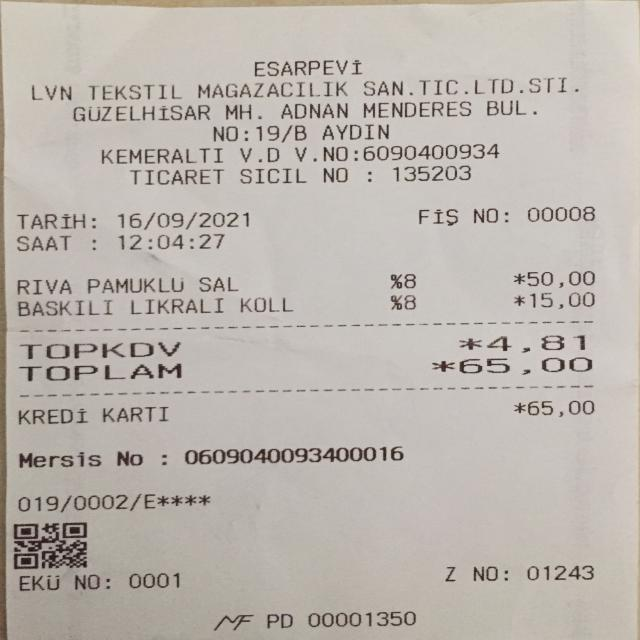text: (183, 445, 403, 463), (294, 143, 500, 160), (362, 78, 566, 94), (196, 80, 348, 98), (17, 363, 181, 379), (459, 356, 592, 375), (19, 342, 179, 357), (118, 210, 249, 228), (100, 145, 222, 164), (71, 103, 210, 119), (362, 98, 470, 115), (18, 447, 101, 469), (484, 334, 585, 352), (254, 58, 362, 74), (118, 232, 224, 248), (87, 82, 181, 100), (307, 611, 416, 626), (130, 167, 224, 184), (87, 276, 182, 292), (130, 297, 222, 313), (16, 300, 111, 315), (394, 164, 471, 182), (526, 203, 596, 222), (239, 165, 306, 184), (527, 269, 594, 288), (17, 210, 82, 229), (321, 122, 389, 140), (527, 399, 593, 417), (280, 100, 348, 117), (15, 408, 87, 423), (101, 406, 167, 422), (528, 564, 594, 580), (534, 290, 596, 307), (16, 233, 72, 251), (73, 493, 128, 510), (16, 277, 70, 294), (156, 491, 210, 508), (239, 296, 292, 313), (412, 207, 458, 226), (129, 571, 178, 587), (239, 144, 280, 163), (30, 83, 72, 101), (486, 97, 526, 115), (198, 274, 238, 292), (16, 494, 58, 511), (17, 574, 60, 589), (115, 446, 142, 468), (471, 206, 499, 223), (211, 124, 236, 143), (322, 165, 348, 183), (432, 356, 455, 376), (224, 101, 248, 119), (474, 564, 498, 582), (74, 572, 100, 588), (266, 613, 292, 629), (255, 124, 278, 142), (459, 334, 474, 353), (293, 122, 306, 142), (128, 492, 142, 510), (513, 398, 525, 418), (59, 493, 72, 511), (280, 123, 292, 142), (142, 492, 155, 509), (513, 270, 525, 288), (389, 293, 401, 310), (444, 564, 455, 582), (390, 272, 401, 289), (404, 272, 415, 289), (404, 293, 414, 310), (512, 294, 526, 306), (160, 445, 166, 468), (87, 210, 94, 229), (91, 232, 97, 251), (104, 572, 109, 588), (504, 564, 507, 581)
